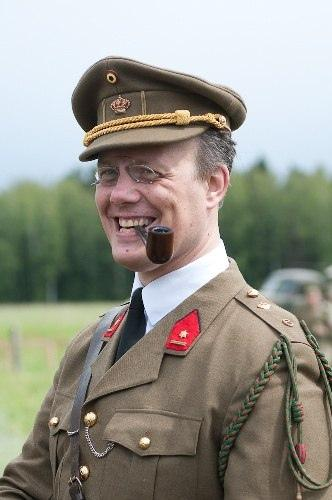trubka: (134, 226, 174, 264)
